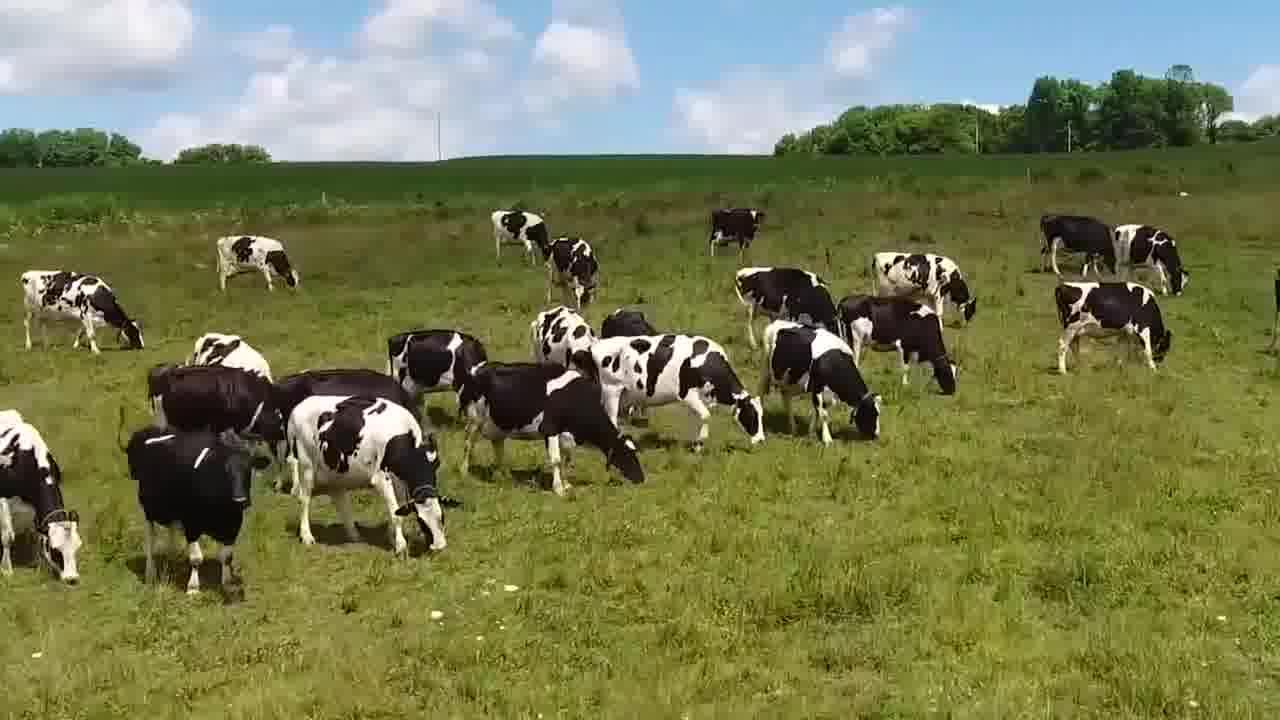cow: (279, 390, 453, 567), (116, 417, 277, 605), (455, 362, 650, 497), (573, 328, 774, 458), (755, 317, 888, 451), (0, 403, 91, 588), (1049, 279, 1177, 384), (836, 294, 963, 399), (17, 264, 151, 359), (142, 359, 286, 445), (863, 246, 981, 328), (733, 263, 836, 336), (382, 326, 490, 393), (1104, 221, 1194, 295), (211, 231, 305, 294), (539, 233, 601, 310), (1039, 211, 1108, 279), (526, 309, 606, 365), (704, 201, 766, 262), (486, 205, 551, 260)
